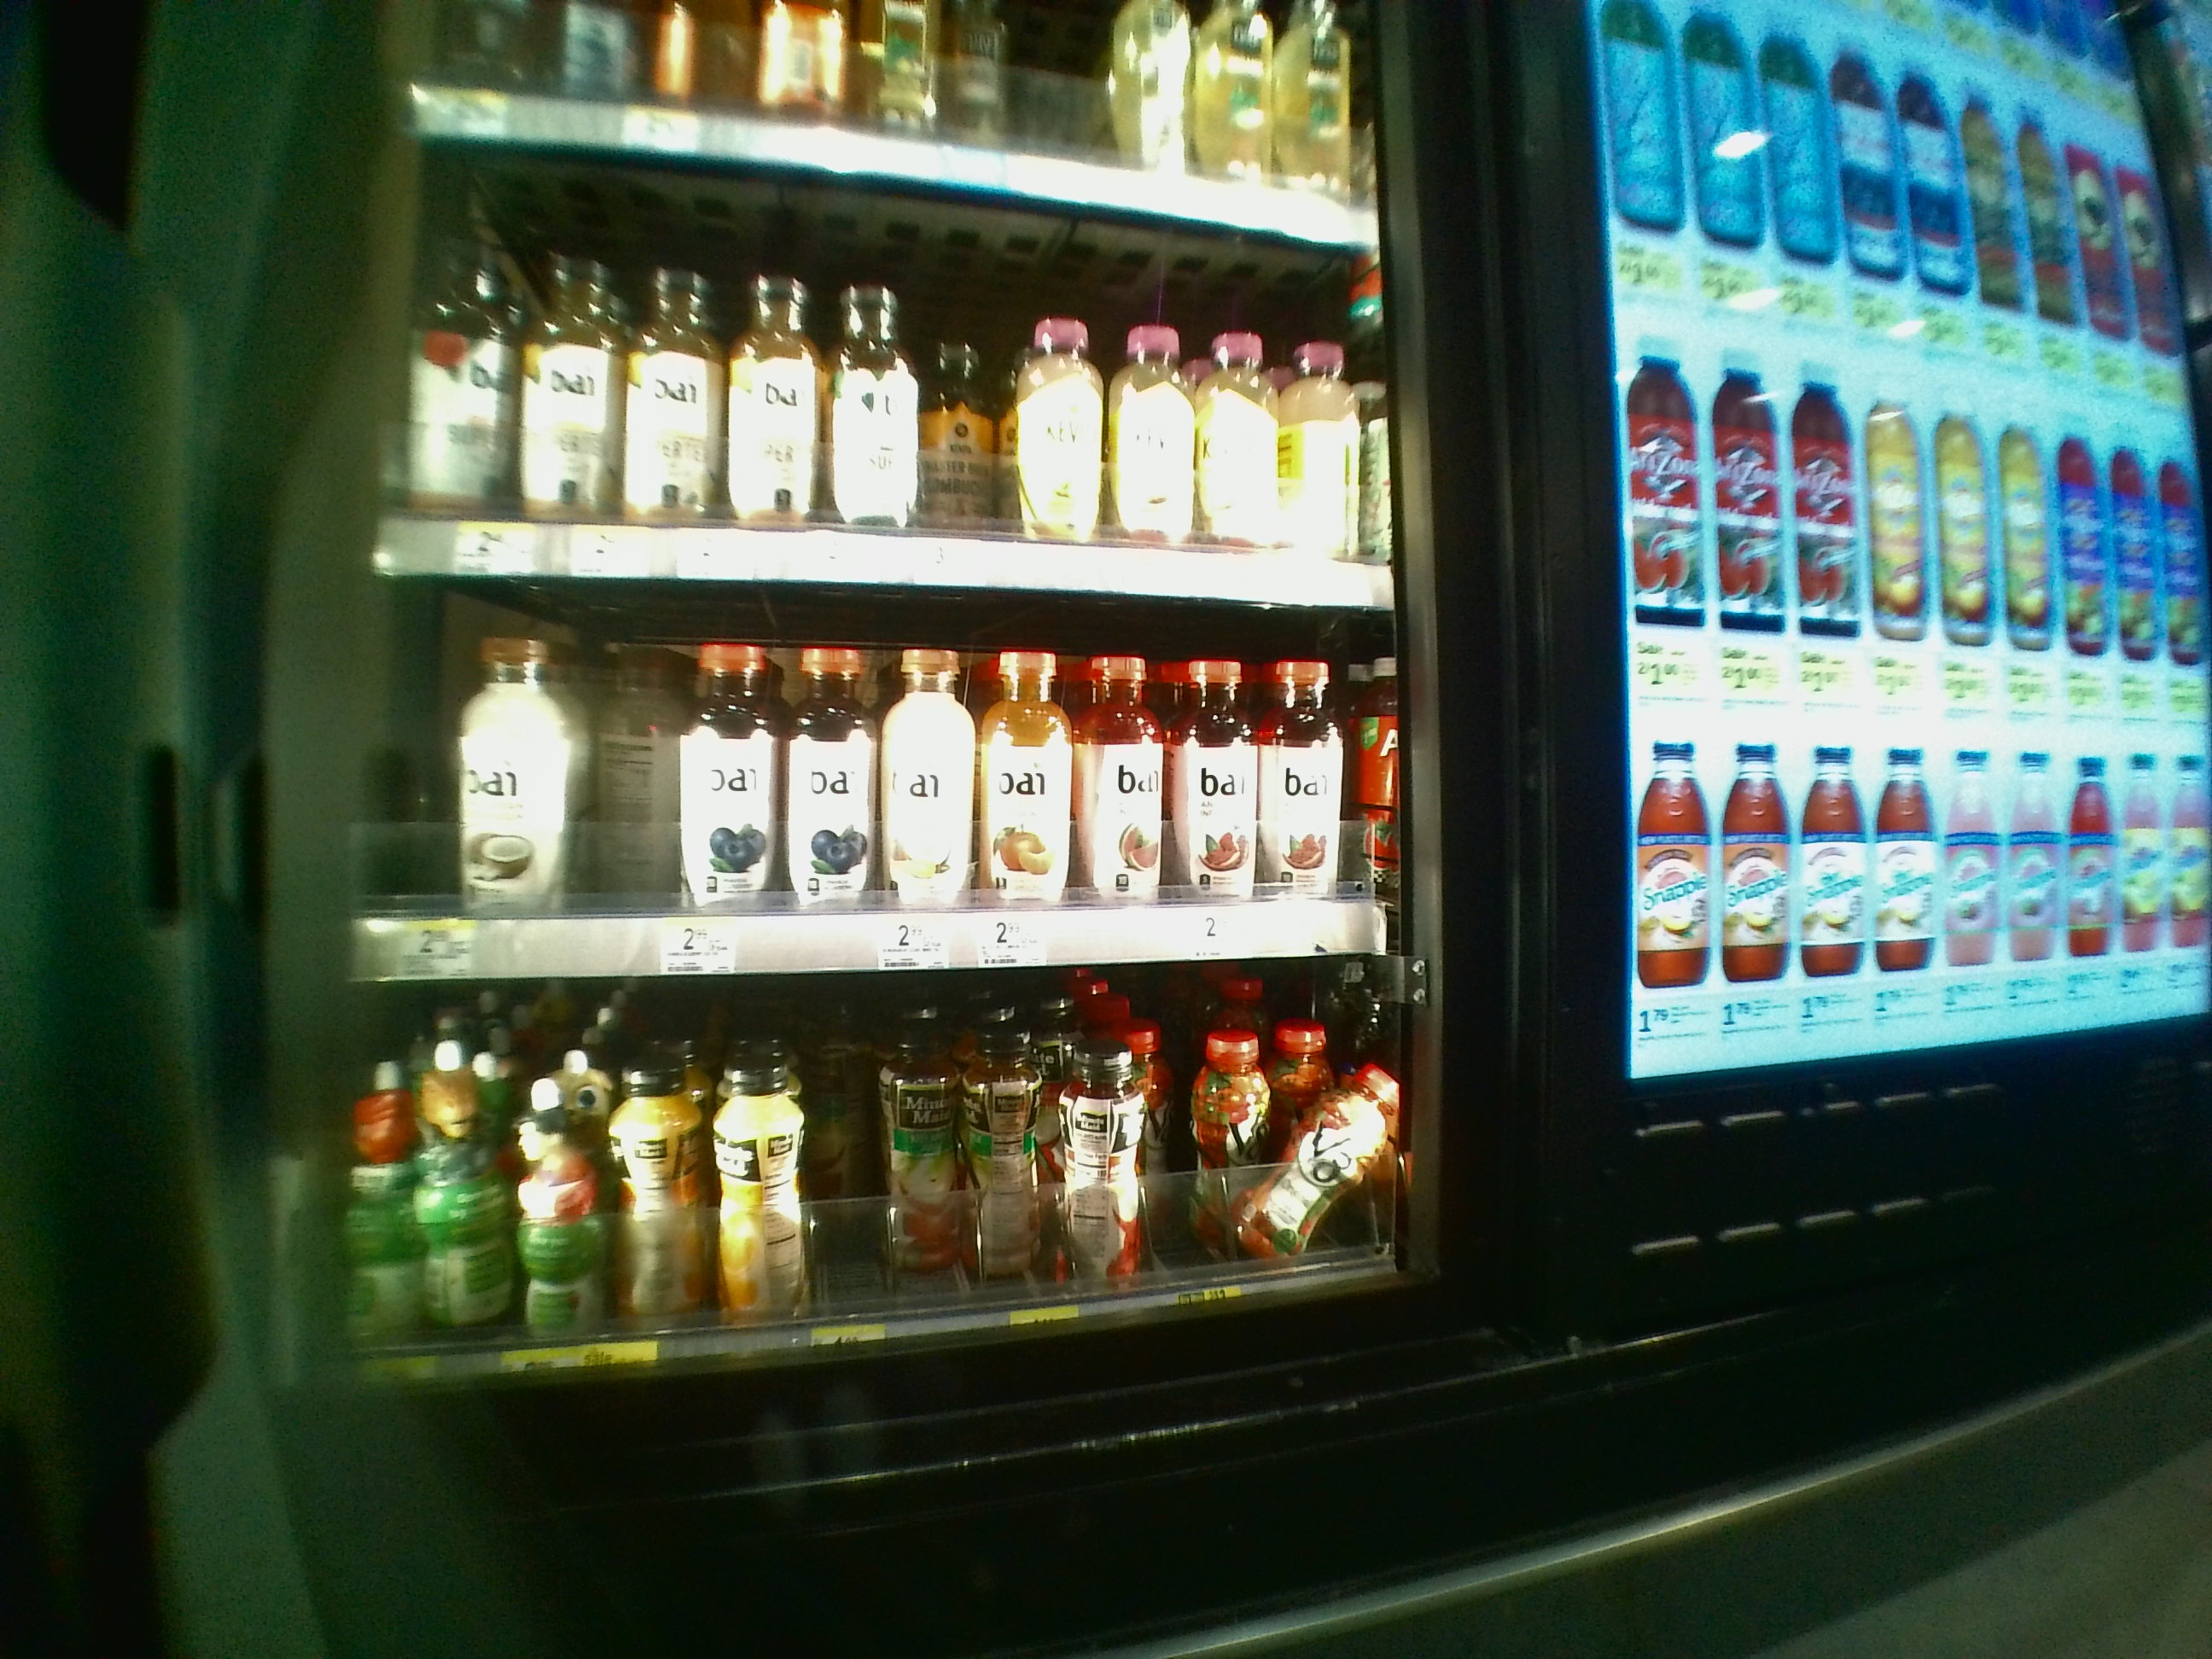shelf: (371, 129, 1400, 575), (336, 990, 1428, 1364), (350, 591, 1413, 974)
